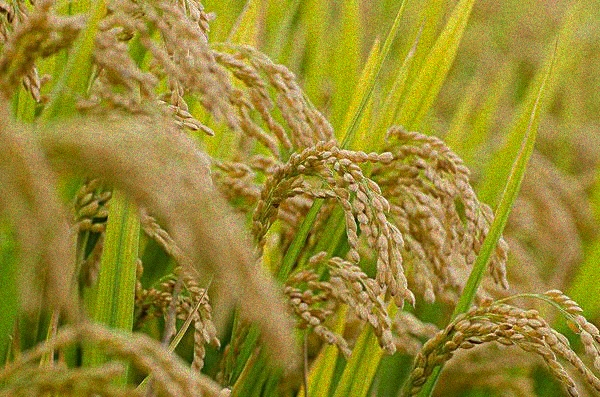rice: (246, 137, 415, 294), (410, 287, 597, 390), (253, 252, 401, 366)
